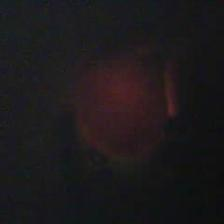fertile: (70, 52, 170, 161)
